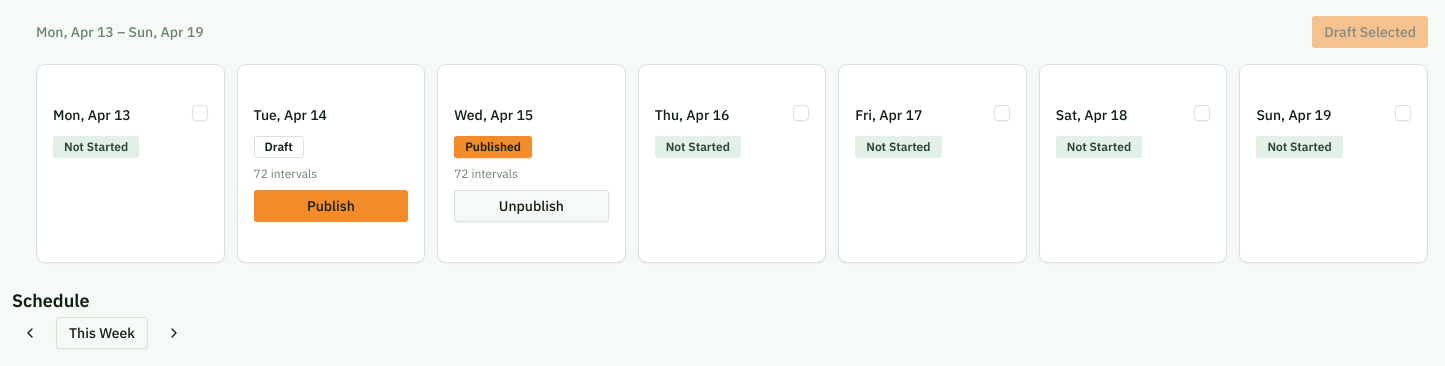
Schedule › enables Draft Selected button when a checkbox is checked
This screenshot has width=1445, height=366.
Expected: the button "Draft Selected" is disabled, [1312,16,1428,48]
Click the checkbox named "Select Mon, Apr 13".
click(200, 113)  # box [192,105,208,121]
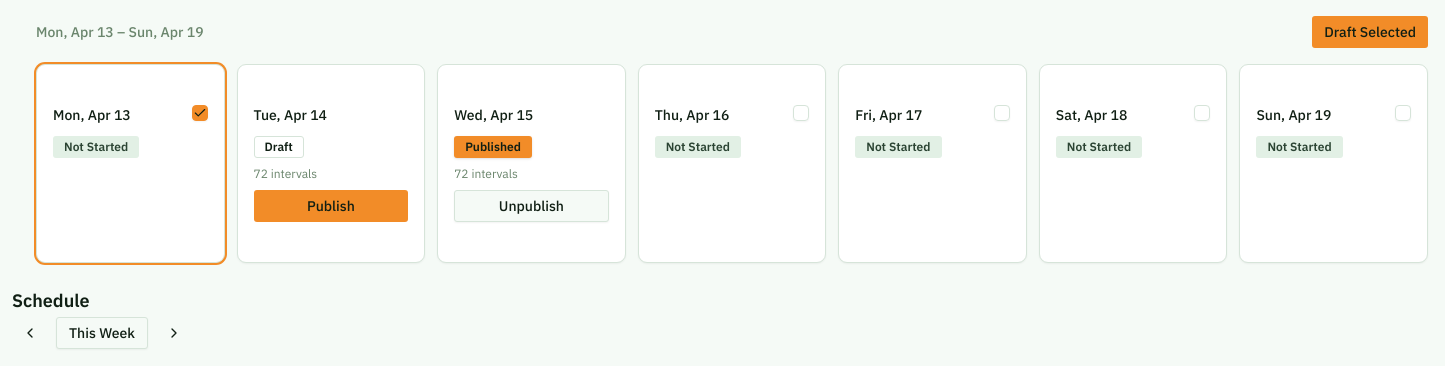
Result: the button "Draft Selected" is enabled at [1312,16,1428,48]
